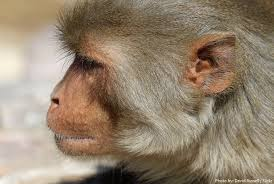monkey: (29, 9, 252, 165)
